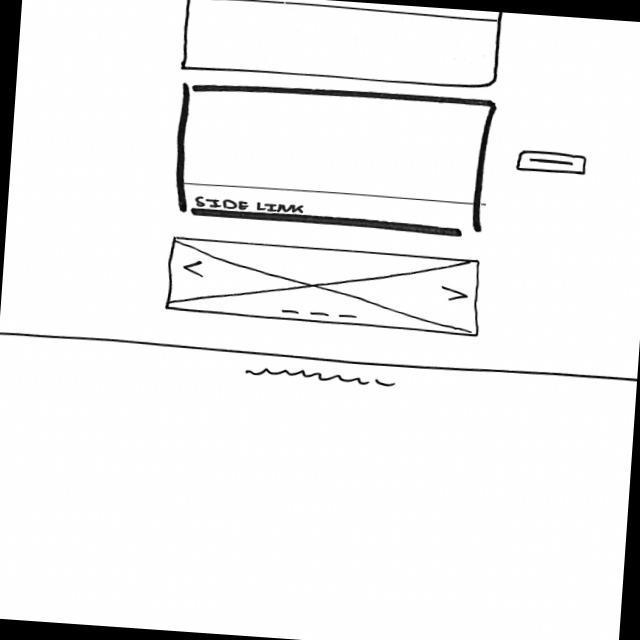container: (170, 79, 499, 240), (174, 1, 508, 94)
icon-button: (512, 148, 591, 178)
image: (162, 234, 487, 339)
label: (195, 194, 311, 216)
text: (244, 366, 402, 391)
